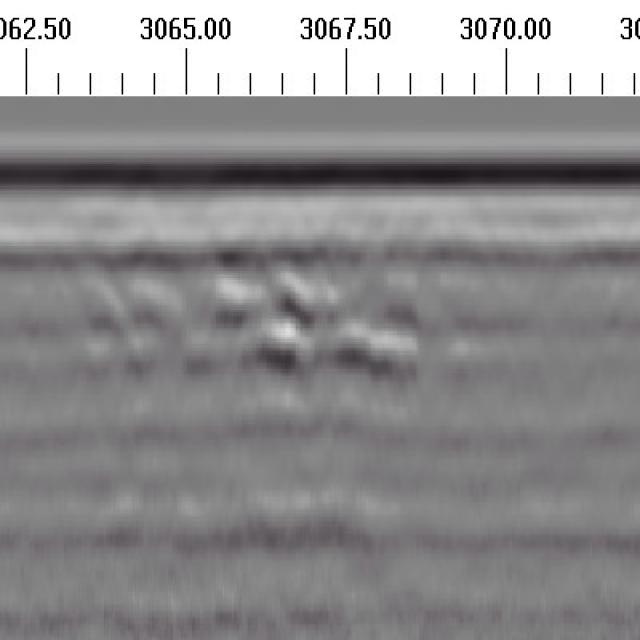loose: (60, 240, 430, 388)
